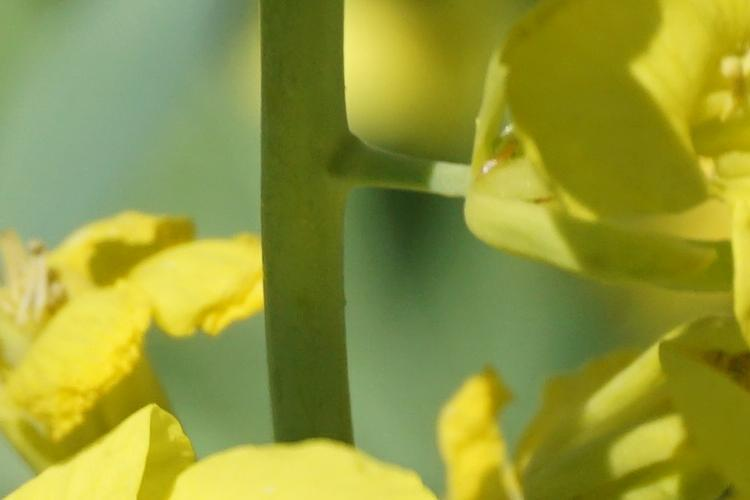yellow: (489, 23, 749, 323), (12, 224, 273, 423), (451, 327, 746, 494), (59, 406, 435, 500)
